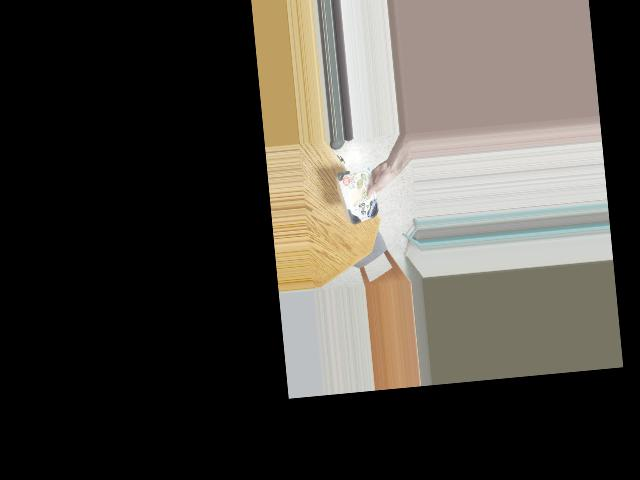cheese: (337, 175, 384, 219)
